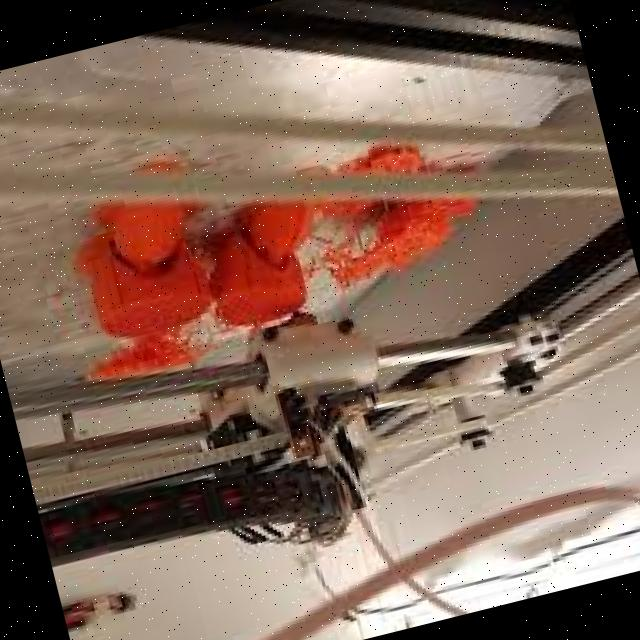spaghetti: (304, 128, 499, 310), (80, 305, 229, 400)
